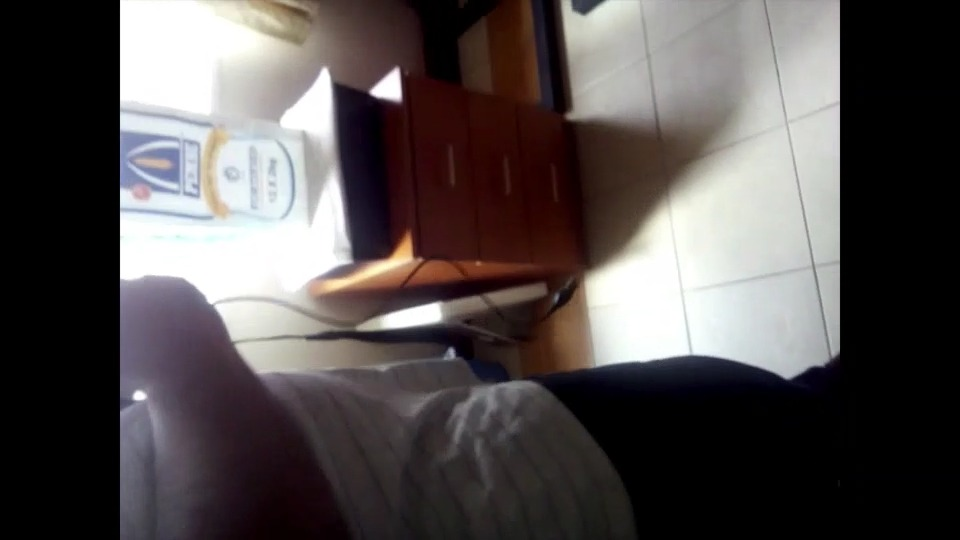wheat_flour_blue_label: (119, 100, 312, 251)
